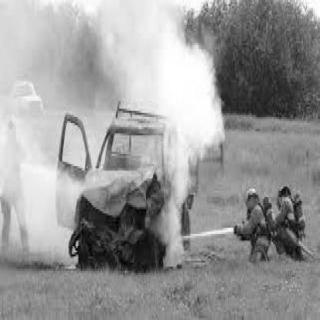Smoke: (148, 20, 226, 222)
